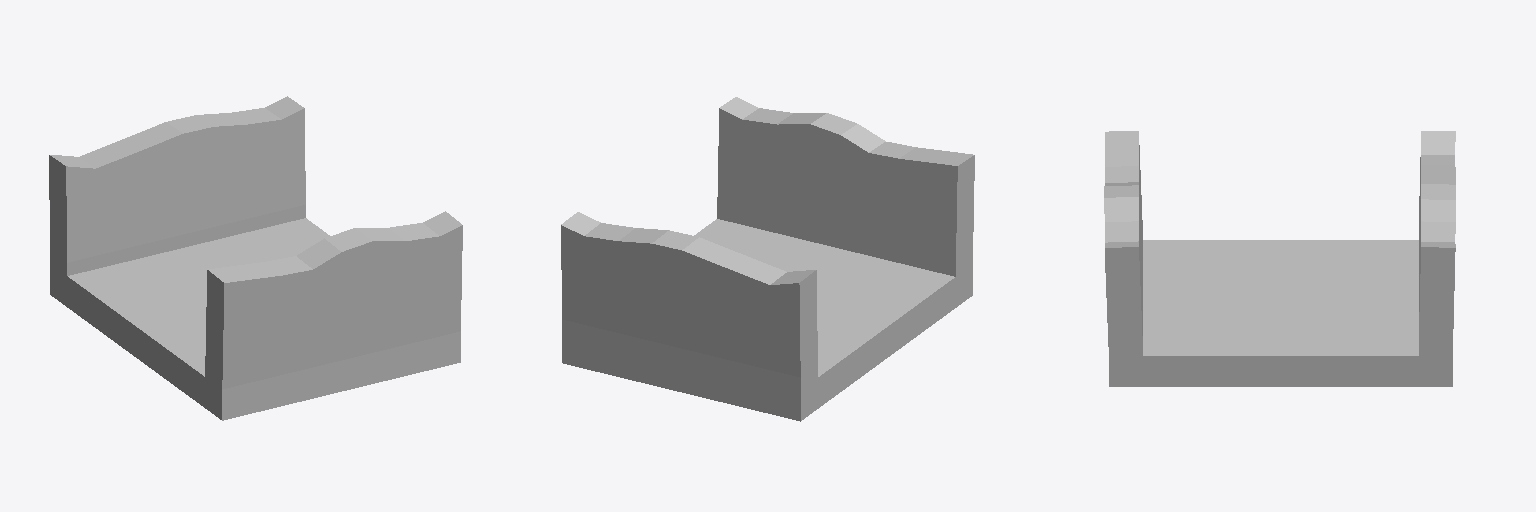
Rendered from placeholder_ground.obj.
3 renders of one model, left to right at view 1: azimuth 30°, elevation 25°; view 2: azimuth 150°, elevation 25°; view 3: azimuth 270°, elevation 25°, orthographic.
Visible parts, largest first — view 1: Cube; view 2: Cube; view 3: Cube.
Part boxes in pixels (left/top/right/bottom): Cube: left=49, top=96, right=462, bottom=420; Cube: left=561, top=97, right=974, bottom=421; Cube: left=1104, top=131, right=1455, bottom=386.
Size of the model in its own units: 16 by 9.37 by 20.41.